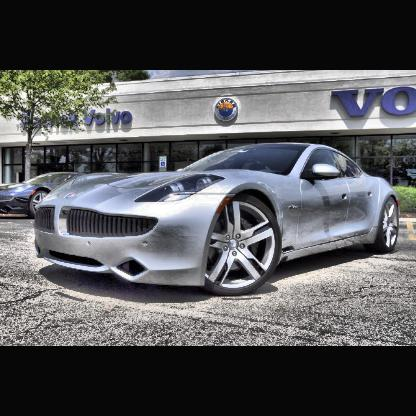Fisker Karma Sedan 2012: (35, 143, 399, 297)
